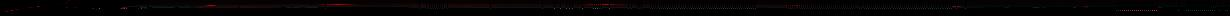Blue cone: (28, 7, 34, 8), (15, 9, 20, 10), (36, 6, 40, 7)
Yellow cone: (1083, 6, 1089, 8)
